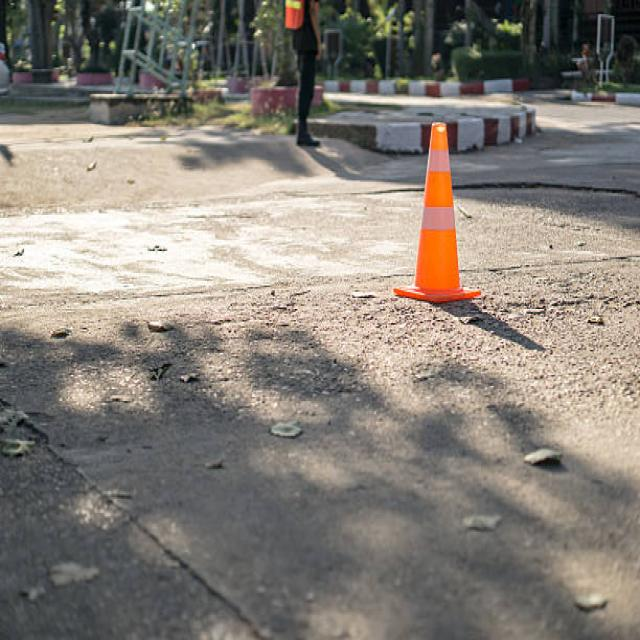Traffic Cone: (368, 84, 503, 346)
